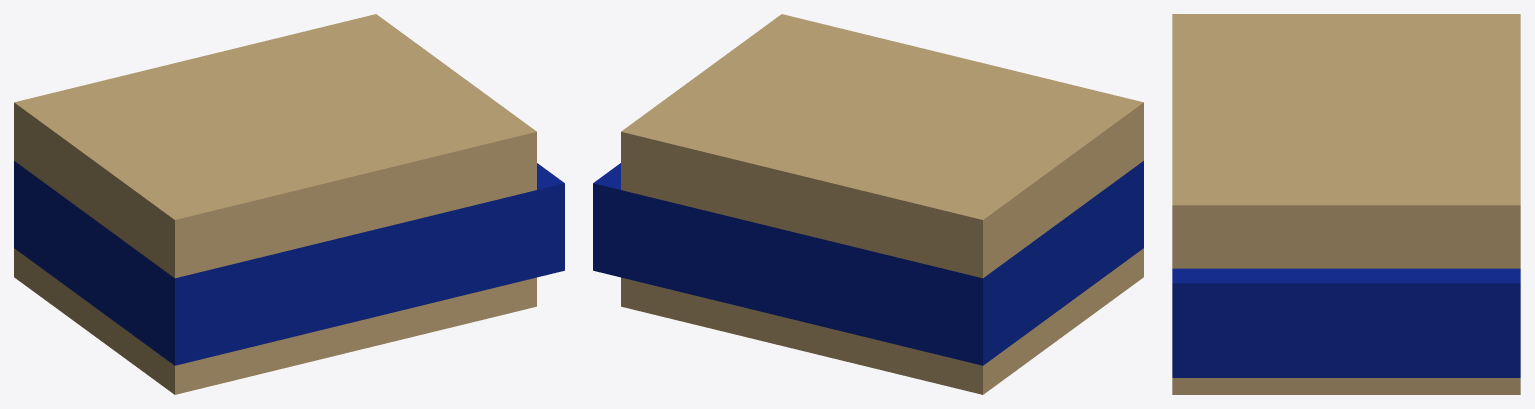
Rendered from cartridge_box_357_h_magnum.glb.
The picture shows the model from 3 angles, left to right: view 1: azimuth 30°, elevation 25°; view 2: azimuth 150°, elevation 25°; view 3: azimuth 270°, elevation 25°; orthographic projection. The views are drawn at different scales.
Parts seen in each view (by area): view 1: package:carton; view 2: package:carton; view 3: package:carton.
Boxes of the visible parts, x1,y1,x2,y2 form: package:carton: (14,14,564,394); package:carton: (593,14,1143,394); package:carton: (1172,14,1520,394).
Size of the model in its own units: 0.14 by 0.06 by 0.1.
